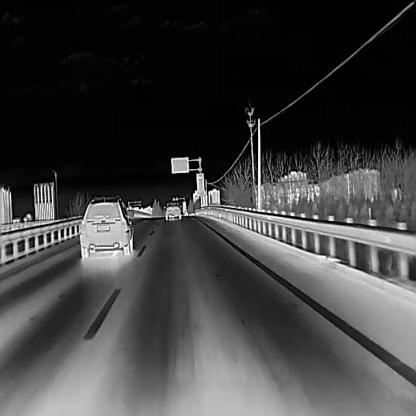car: (77, 195, 132, 258), (162, 202, 180, 220)
